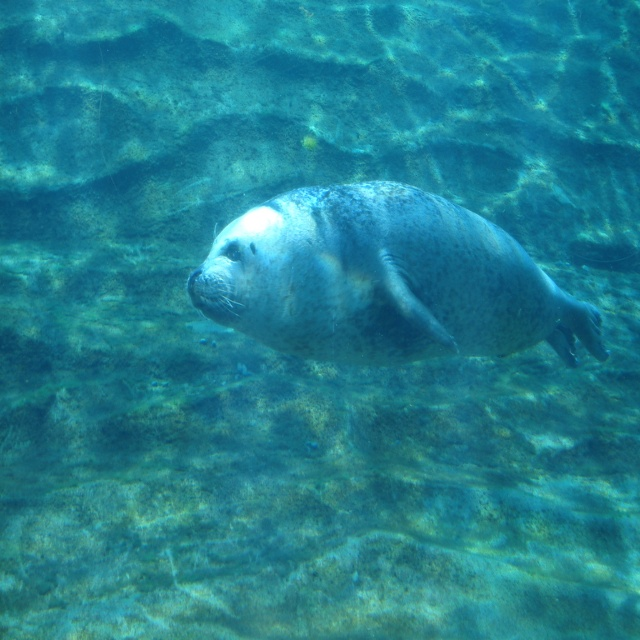Fish: (185, 182, 610, 365)
